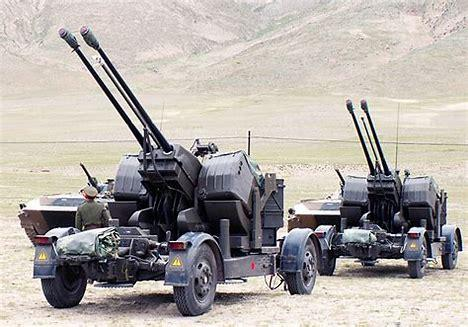MIL_SPG: (20, 27, 317, 315), (314, 100, 463, 277)
